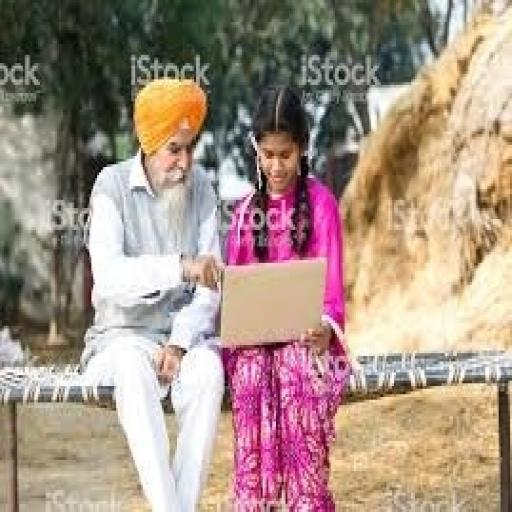using_laptop: (217, 252, 327, 350)
